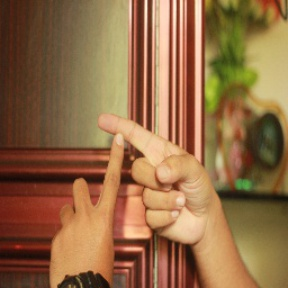T: (76, 106, 175, 232)
